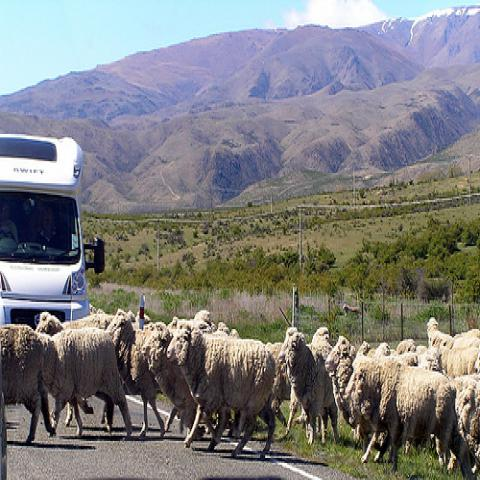bus: (0, 132, 105, 330)
truck: (2, 127, 90, 332)
